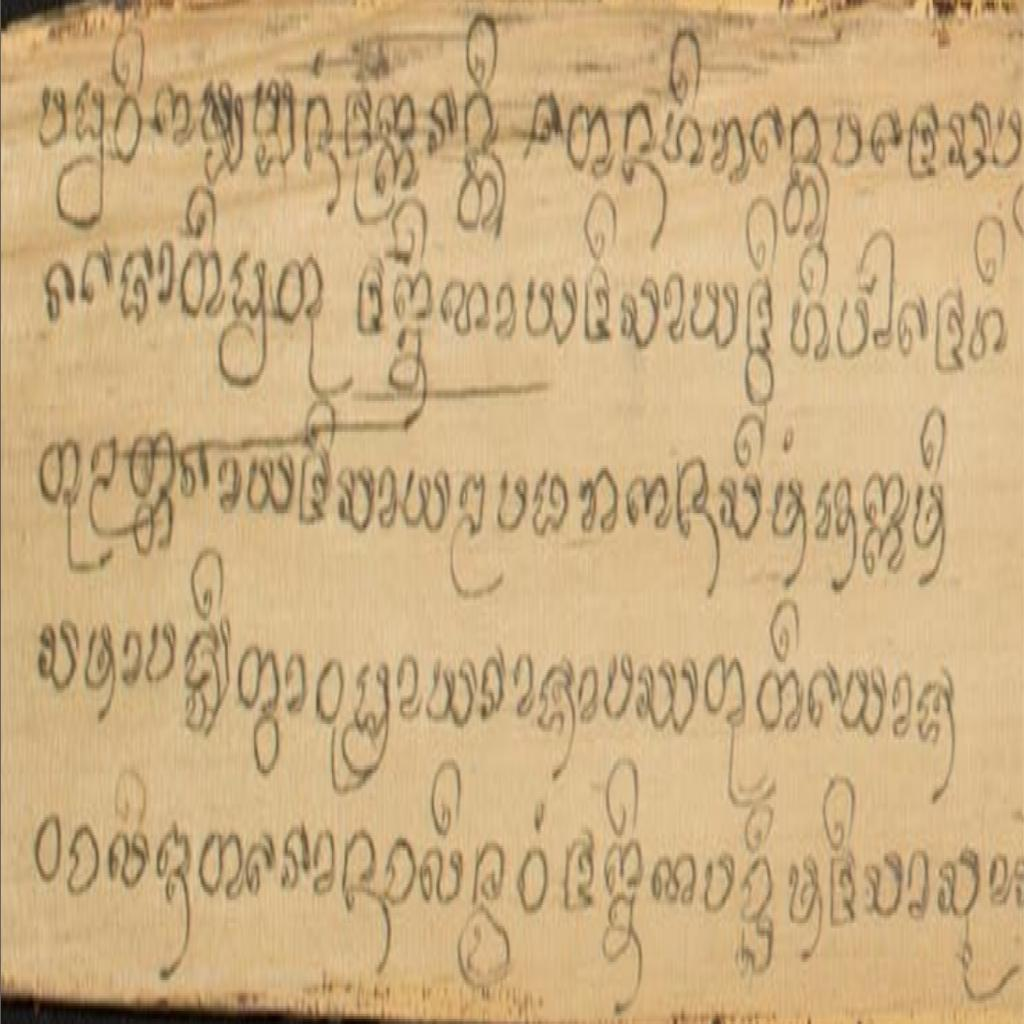LN006: (66, 818, 103, 904)
LN017: (649, 847, 700, 915)
